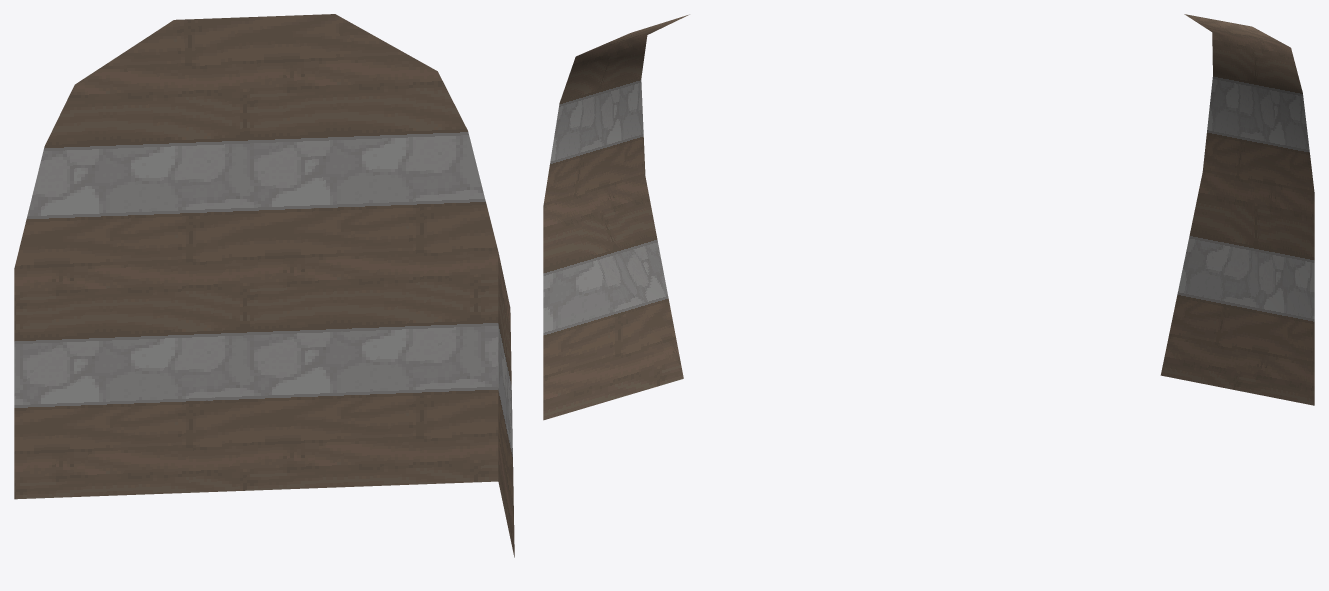
File: kd_stage_1366d7_0_32.glb
3 views of the same model, side by side, from view 1: azimuth 30°, elevation 25°; view 2: azimuth 150°, elevation 25°; view 3: azimuth 270°, elevation 25° (orthographic). The views are drawn at different scales.
Parts seen in each view (by area): view 1: kd_stage_1366d7_0_32; view 2: kd_stage_1366d7_0_32; view 3: kd_stage_1366d7_0_32.
Boxes of the visible parts, x1,y1,x2,y2 form: kd_stage_1366d7_0_32: (14,14,514,557); kd_stage_1366d7_0_32: (543,14,689,420); kd_stage_1366d7_0_32: (1160,14,1314,405).
Size of the model in its own units: 4.2 by 4.23 by 3.02.
1 material, 1 textured.
